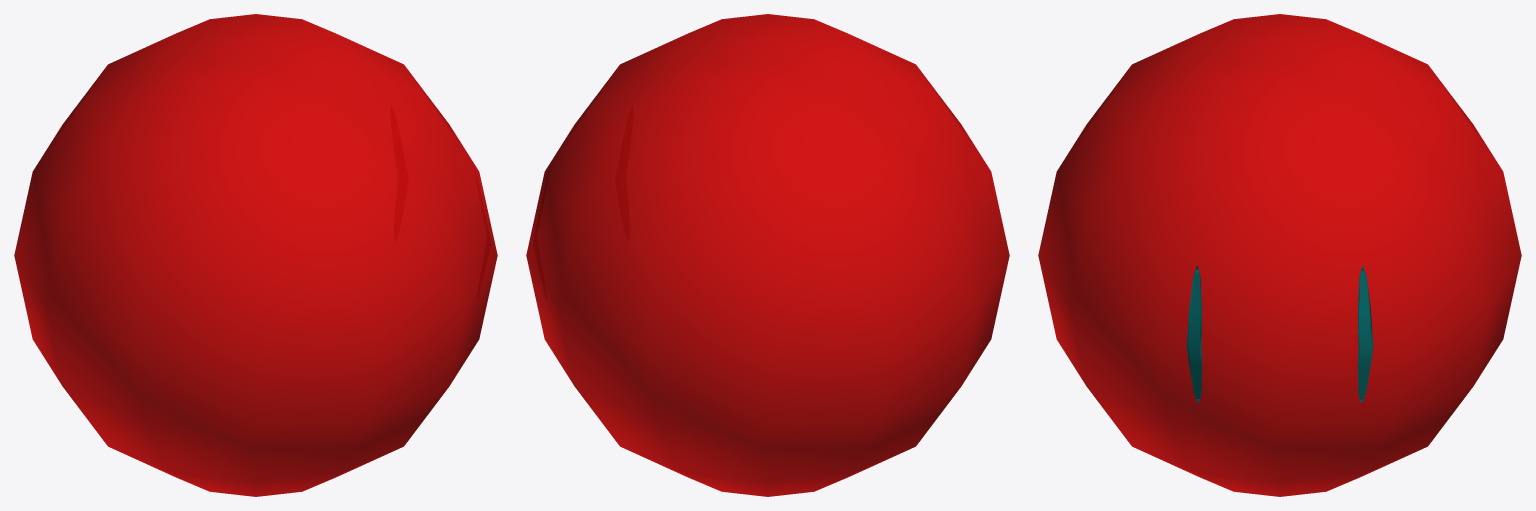
3 renders of one model, left to right at view 1: azimuth 30°, elevation 25°; view 2: azimuth 150°, elevation 25°; view 3: azimuth 270°, elevation 25°, orthographic.
Visible parts, largest first — view 1: Cube; view 2: Cube; view 3: Cube, Cube.001.
Part boxes in pixels (box(x1,y1,x2,y2)): Cube: box(14, 14, 497, 496); Cube: box(526, 14, 1009, 496); Cube: box(1038, 14, 1521, 496); Cube.001: box(1186, 265, 1373, 403).
Bounding box in the file's own units: 6 × 6 × 6.
